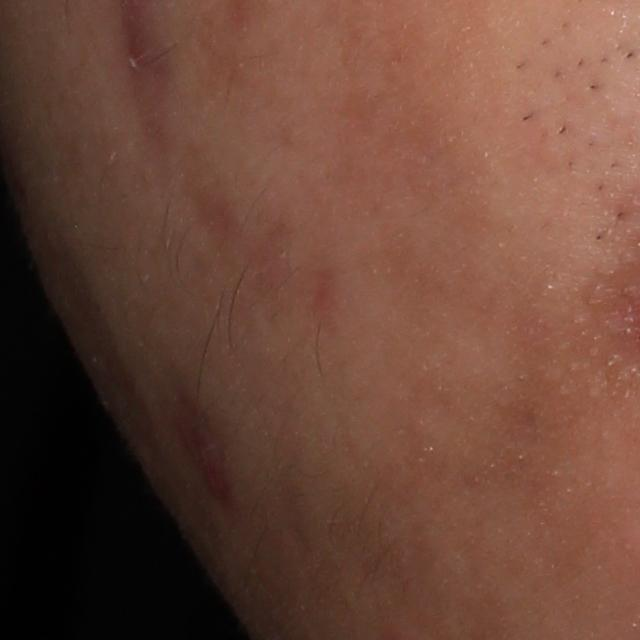papule: (188, 432, 233, 507)
